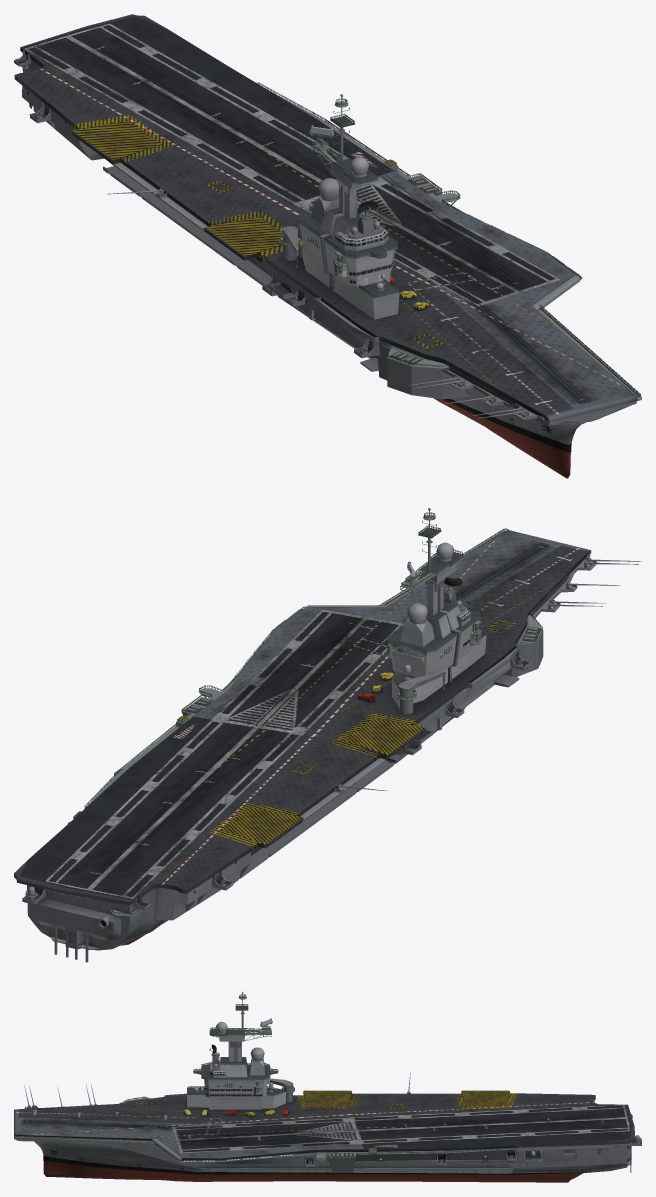
File: charles_de_gaulle_aircraft_carrier.glb
3 views of the same model, one above another, from view 1: azimuth 30°, elevation 25°; view 2: azimuth 150°, elevation 25°; view 3: azimuth 270°, elevation 25° (orthographic). The views are drawn at different scales.
Parts seen in each view (by area): view 1: skfb_offset; view 2: skfb_offset; view 3: skfb_offset.
Part boxes in pixels (x1,y1,x2,y2): skfb_offset: (14,14,641,478); skfb_offset: (14,507,641,962); skfb_offset: (14,991,641,1182).
Size of the model in its own units: 17283 by 16756 by 55166.
Materials: 3 (3 with a texture image).
